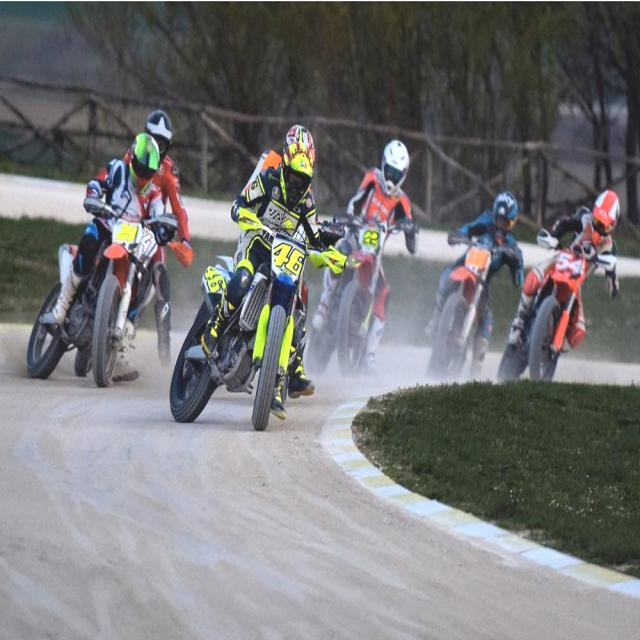MOTORCYCLE: (163, 218, 324, 422), (30, 192, 153, 383), (322, 210, 384, 364), (521, 234, 587, 373), (438, 231, 484, 370)
